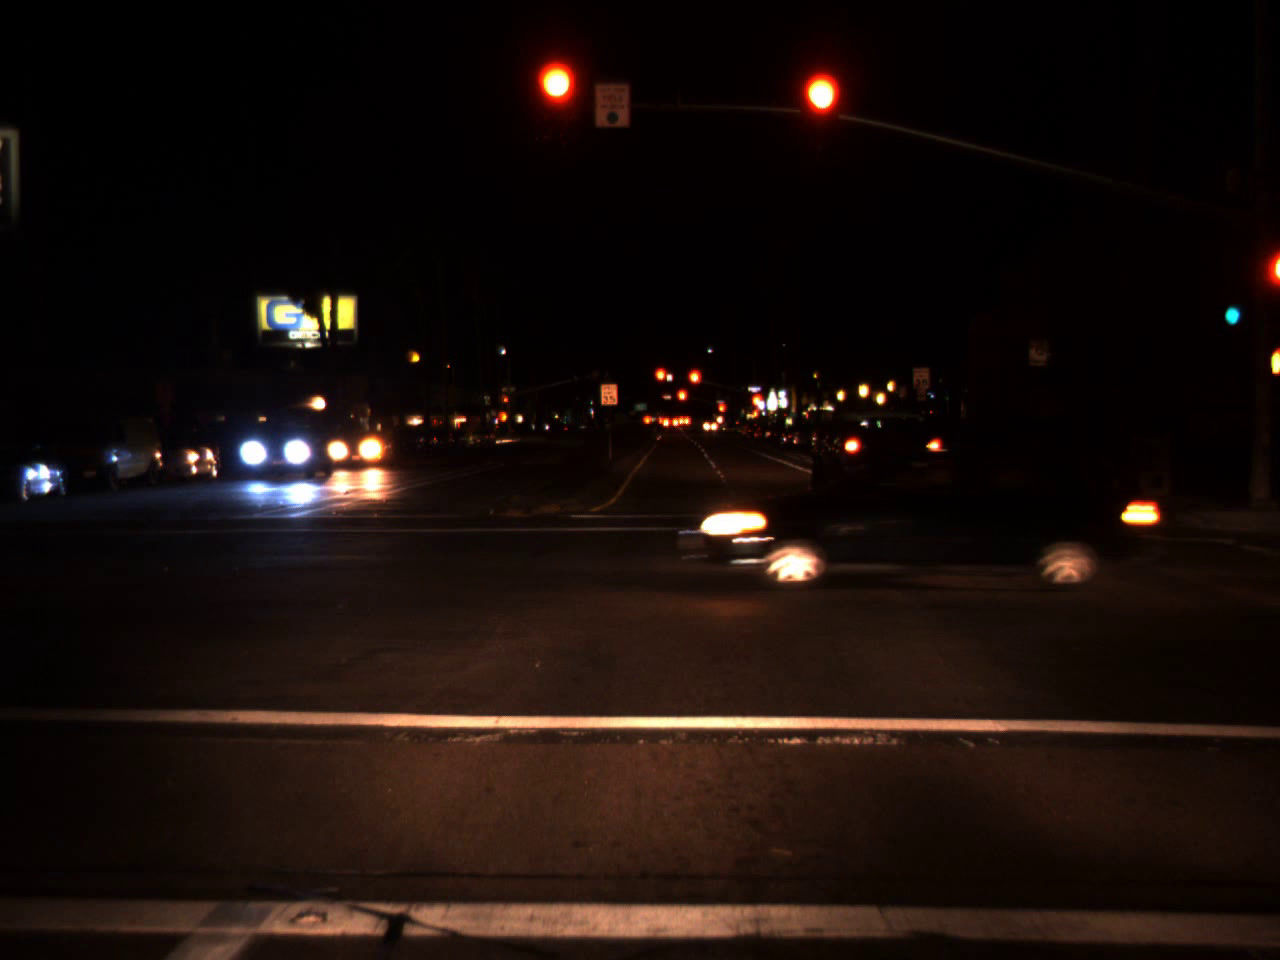stop: (537, 63, 577, 141), (803, 73, 839, 151), (686, 366, 702, 401), (653, 366, 669, 395), (748, 392, 763, 419), (675, 387, 688, 414), (717, 402, 727, 423), (502, 397, 508, 407)
